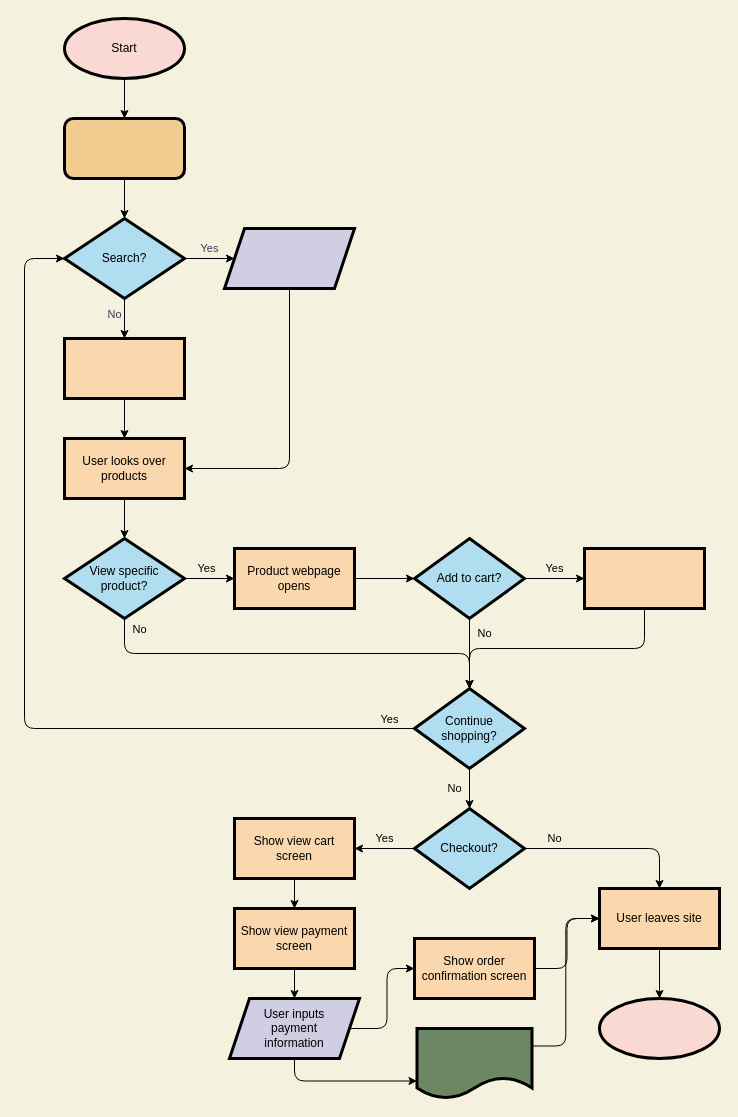
This 738x1117 diagram has some shape labels left out. Here are the shapes that lost their labels. From the top down, the centre of each, then its label:
At (124,148): "User enters site".
At (289,258): "User inputs search".
At (124,368): "Explore home page".
At (644,578): "Show added to cart confirmation".
At (659,1028): "End".
At (474,1063): "Email order confimation".
